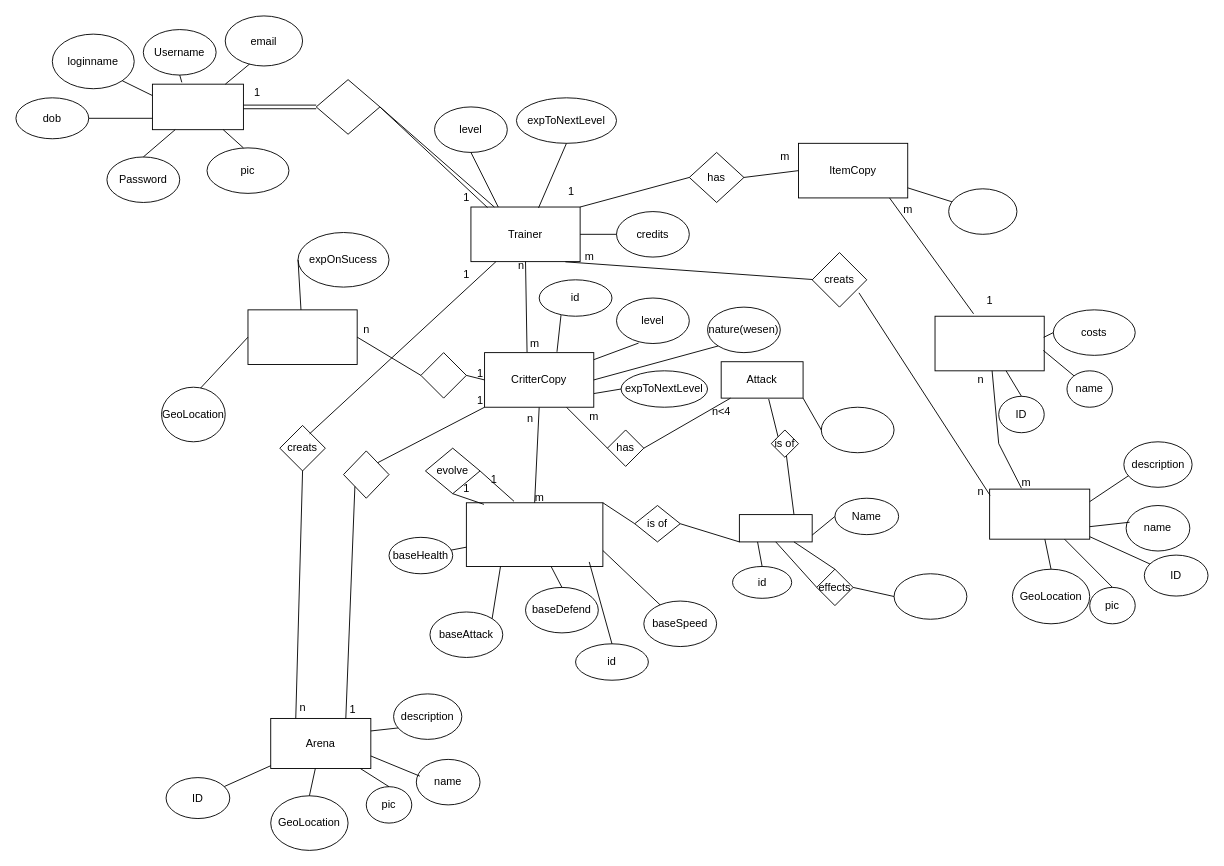
Image size: 1224x866. Some labels were removed from this diagram. Each missing label, with the centre of its shape:
CritterTemplate: the point at 534,534
effectviness: the point at 930,596
is: the point at 443,375
is in: the point at 366,474
ItemTemplate: the point at 989,343
plays: the point at 347,106
quantity: the point at 982,211
strength: the point at 857,429
StudentHub: the point at 1039,513
Type: the point at 775,528
User: the point at 197,106
WildEncounter: the point at 302,336
